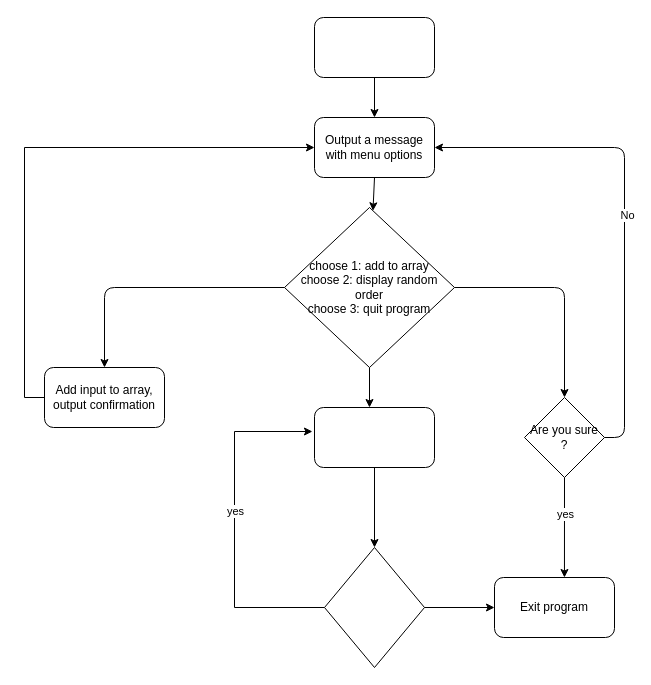
This 651x685 diagram has some shape labels left out. The box of each missing label's shape, as (x1, y1, x2, y2) in pixels:
Create empty array: (314, 16, 434, 78)
Do again ?: (324, 546, 424, 668)
Loop through the array with random order: (314, 406, 434, 468)
